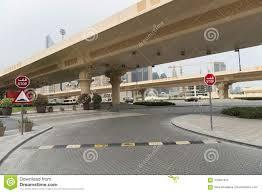Bump: (19, 141, 230, 152)
